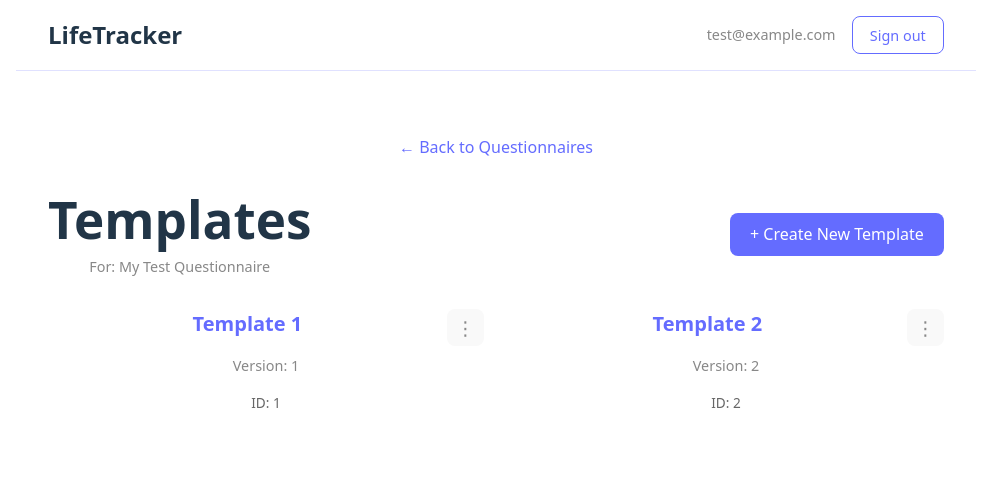
Scenario: Templates › shows create form when create button is clicked
The width and height of the screenshot is (993, 481).
Step 1. Click the button "+ Create New Template" → (837, 234), box [730,213,944,256]
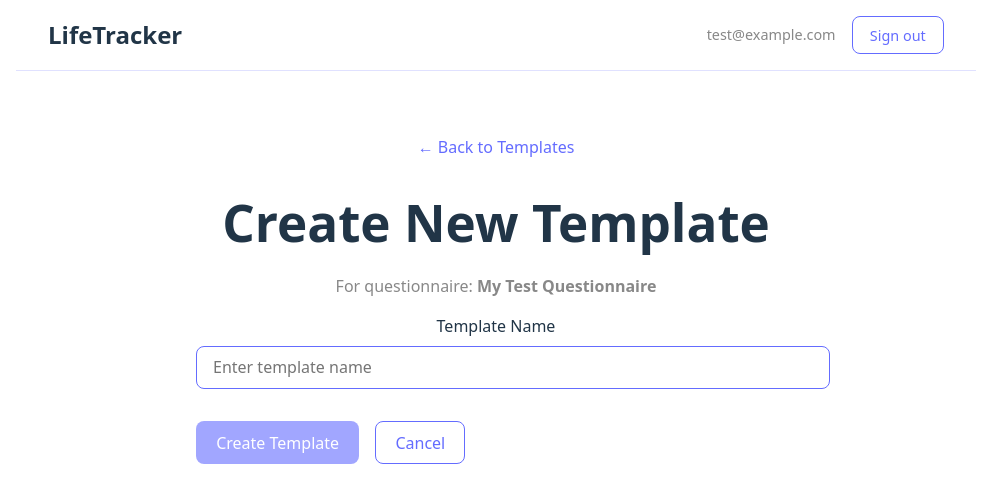
Expected: the heading "Create New Template" is shown, [196,194,796,250]
